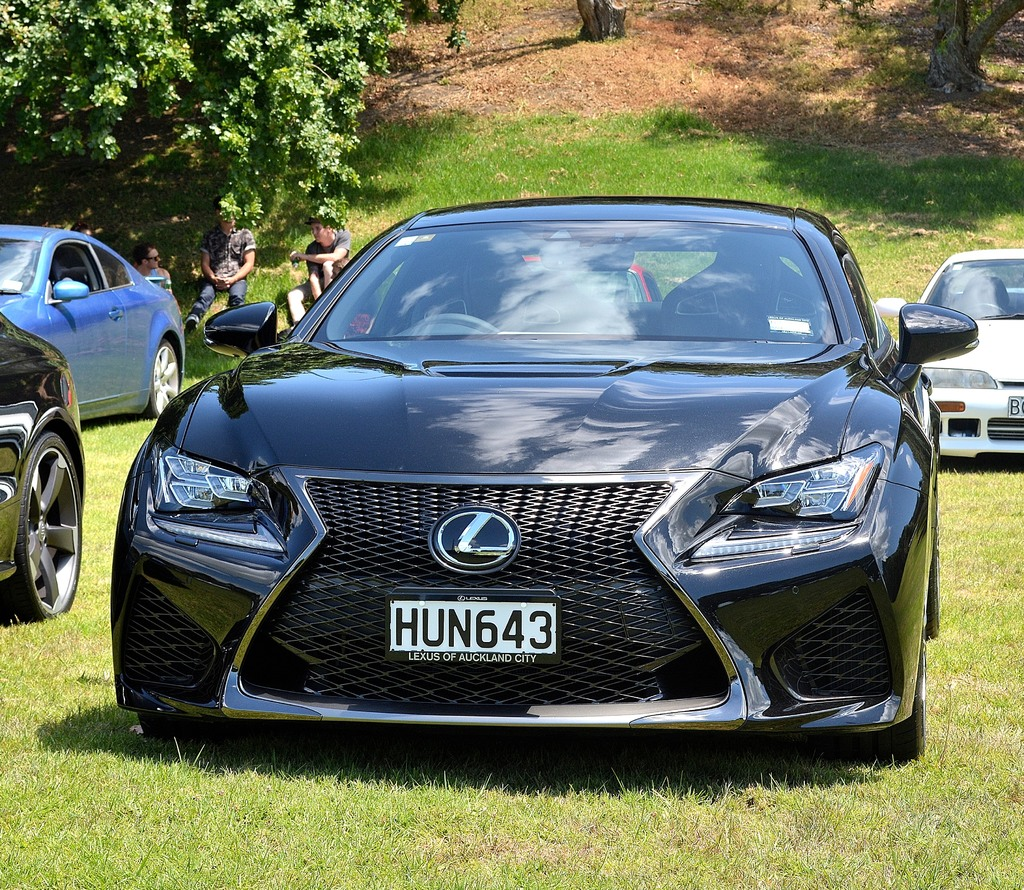Person: (184, 194, 258, 335), (287, 215, 350, 322), (134, 245, 170, 292)
